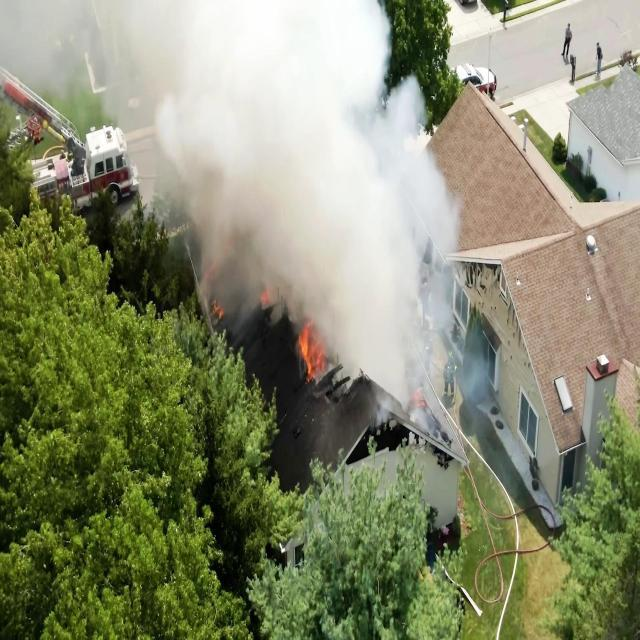Fire: (289, 316, 338, 384)
Smoke: (0, 0, 428, 137), (129, 141, 460, 258), (0, 0, 122, 217), (210, 267, 466, 324), (340, 330, 468, 436)
